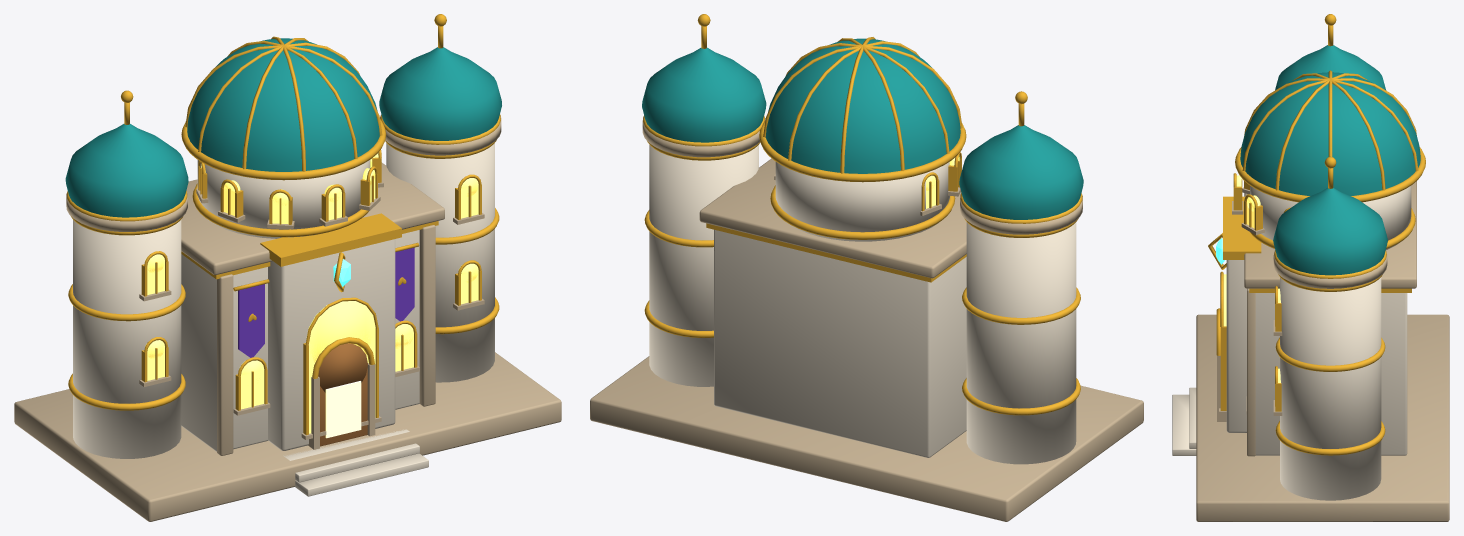
The model's file is palat_4.glb.
The picture shows the model from 3 angles, left to right: view 1: azimuth 30°, elevation 25°; view 2: azimuth 150°, elevation 25°; view 3: azimuth 270°, elevation 25°; orthographic projection. The views are drawn at different scales.
Parts seen in each view (by area): view 1: Palat.001; view 2: Palat.001; view 3: Palat.001.
Part boxes in pixels (box(x1,y1,x2,y2)): Palat.001: box(14, 14, 561, 521); Palat.001: box(590, 14, 1143, 521); Palat.001: box(1172, 14, 1449, 521).
Bounding box in the file's own units: 5.9 × 5.03 × 3.61.
